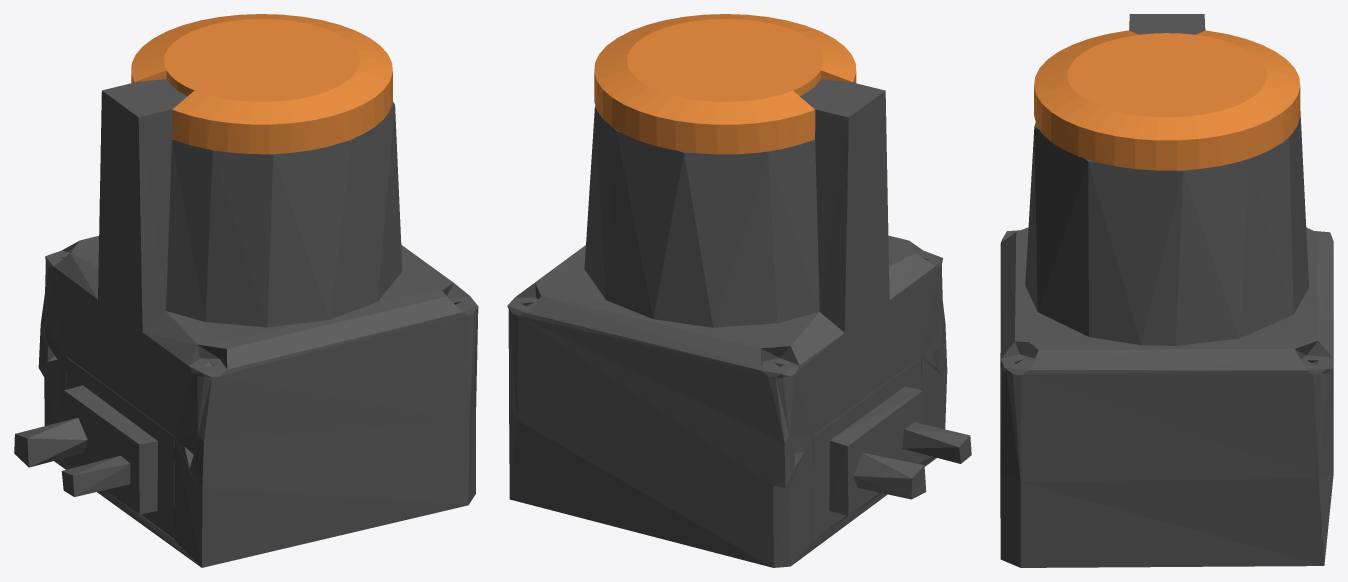
File: hokuyo.dae
3 views of the same model, side by side, from view 1: azimuth 30°, elevation 25°; view 2: azimuth 150°, elevation 25°; view 3: azimuth 270°, elevation 25° (orthographic).
Visible parts, largest first — view 1: Hokuyo 1, Hokuyo 2; view 2: Hokuyo 1, Hokuyo 2; view 3: Hokuyo 1, Hokuyo 2.
Boxes of the visible parts, box(x1,y1,x2,y2) form: Hokuyo 1: box(14, 79, 478, 567); Hokuyo 2: box(131, 14, 392, 154); Hokuyo 1: box(507, 79, 971, 567); Hokuyo 2: box(594, 14, 856, 154); Hokuyo 1: box(1000, 14, 1333, 567); Hokuyo 2: box(1034, 30, 1300, 170).
Size of the model in its own units: 0.0633 by 0.0501 by 0.07.
